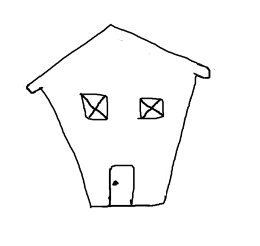closed_window: (78, 91, 112, 122), (134, 94, 167, 124)
door: (102, 159, 142, 211)
single_line_roof: (21, 17, 215, 97)
wall: (41, 81, 194, 215)
